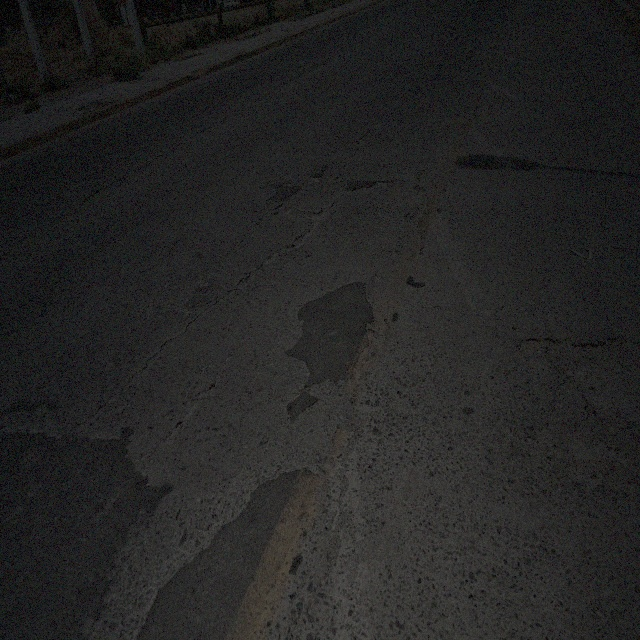pothole: (516, 324, 634, 379), (582, 397, 638, 494), (530, 424, 585, 486), (292, 208, 333, 245), (356, 124, 374, 154)
